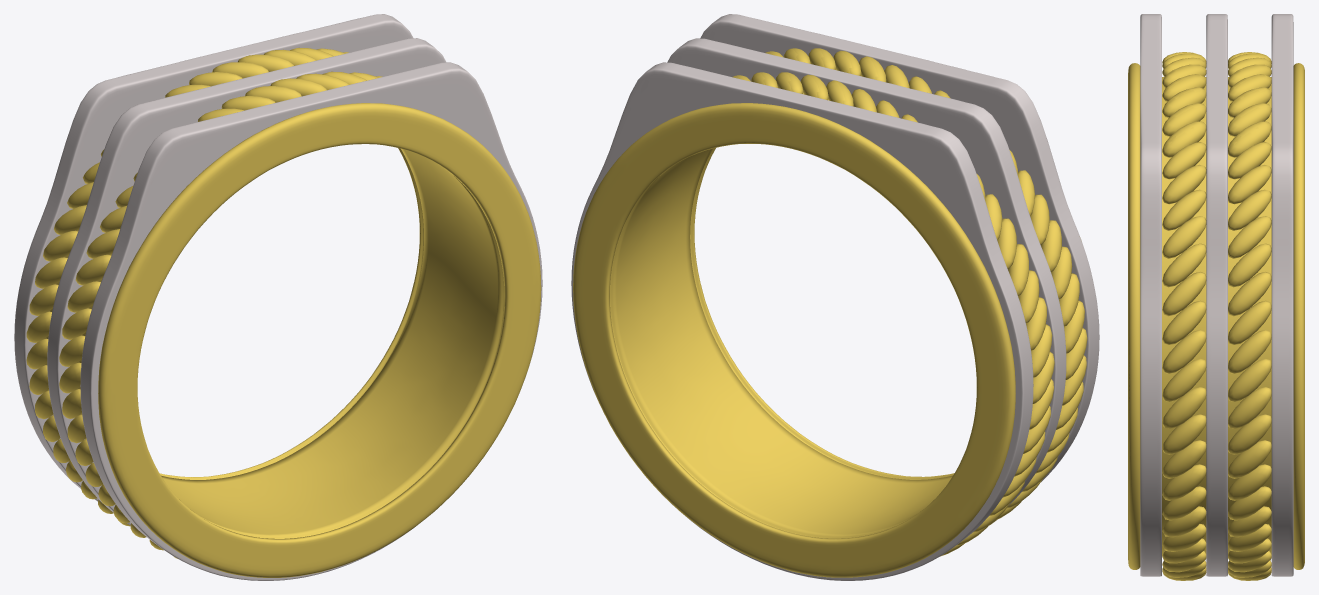
3 views of the same model, side by side, from view 1: azimuth 30°, elevation 25°; view 2: azimuth 150°, elevation 25°; view 3: azimuth 270°, elevation 25° (orthographic).
Parts seen in each view (by area): view 1: Cylinder; view 2: Cylinder; view 3: Cylinder.
Part boxes in pixels (x1=…): Cylinder: x1=14, y1=14, x2=542, y2=580; Cylinder: x1=571, y1=14, x2=1099, y2=580; Cylinder: x1=1128, y1=14, x2=1304, y2=580.
Bounding box in the file's own units: 2.2 × 2.2 × 0.7337.
